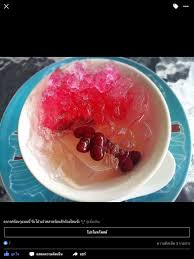O-eo: (28, 58, 168, 200)
